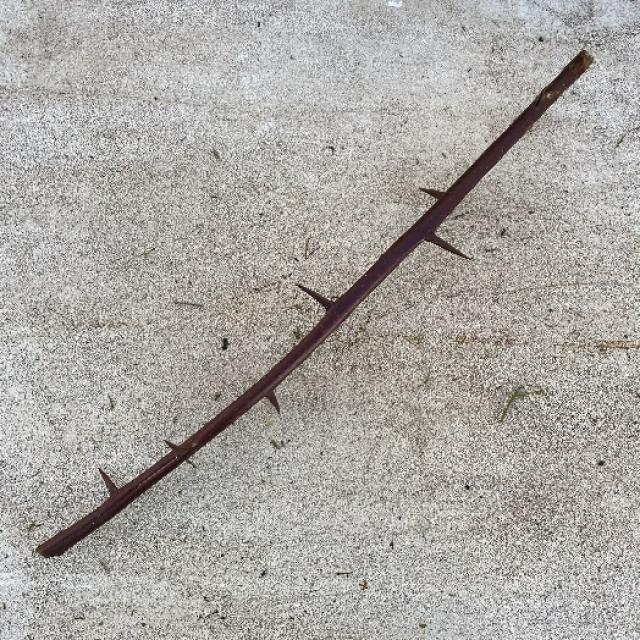organik: (54, 46, 592, 584)
